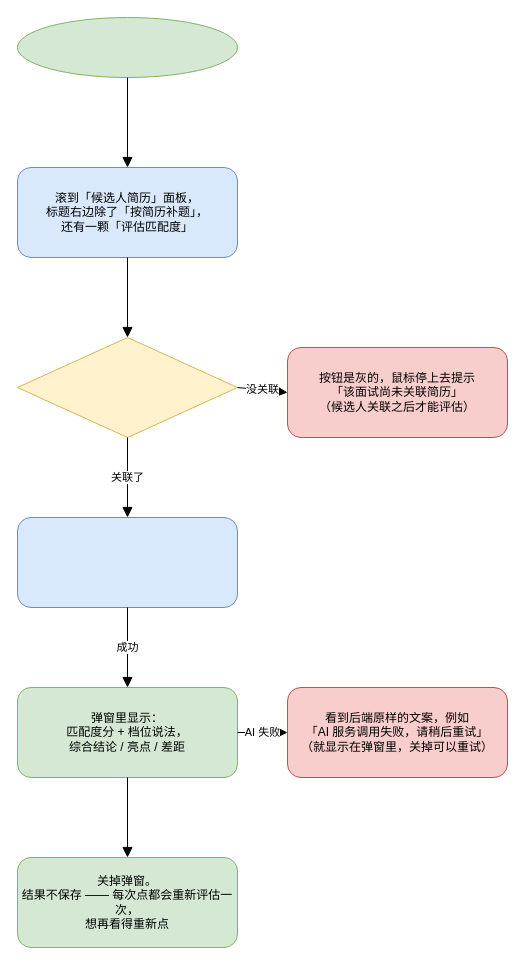
The diagram is 525 pixels wide and 965 high, and some of its shapes have lost their labels. Here are the shapes that lost their labels. From the top down, the centre of each, then its label:
At (x=127, y=47): "打开一场面试的详情页".
At (x=127, y=387): "这场面试关联了简历吗？".
At (x=127, y=562): "点「评估匹配度」 （面试已完成也能点： 评估不写数据，与补题不同）".
